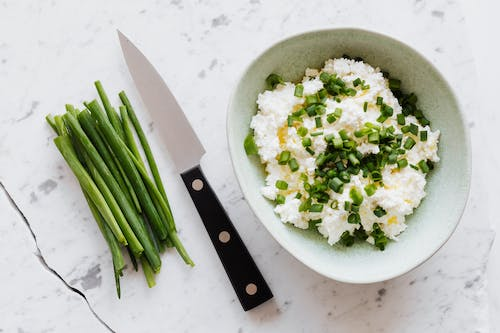knife: (115, 27, 274, 314)
